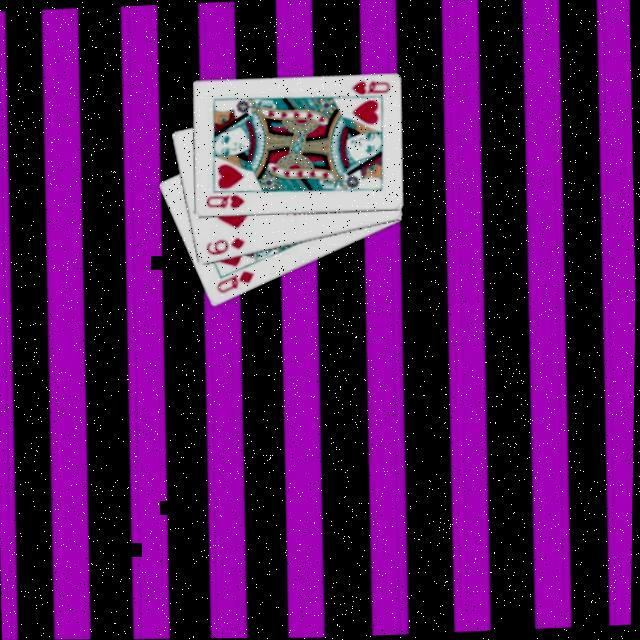6D: (204, 236, 249, 260)
QD: (215, 268, 260, 298)
QH: (344, 79, 394, 105), (204, 193, 249, 215)
